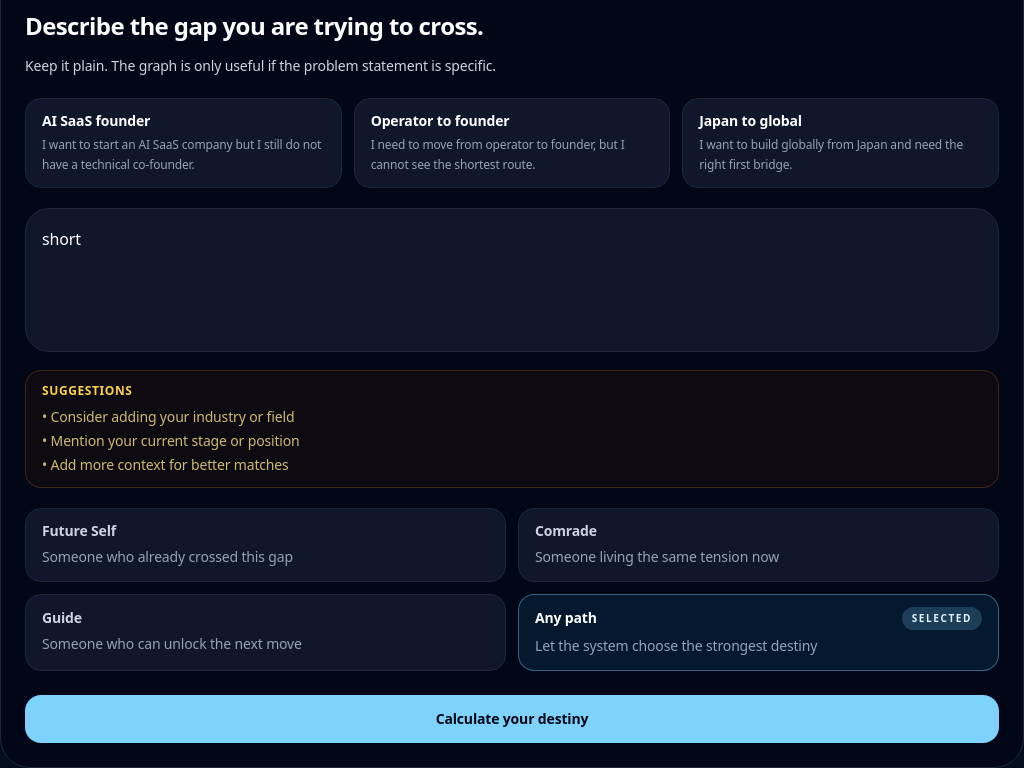
Scenario: SearchInput › Input validation › shows error when input is too short
(page scrolled)
What coordinates should you click on to do the following:
click the button "Calculate your destiny"
I would click on:
 (512, 718)
Its box is [25,694,999,742].
(page scrolled)
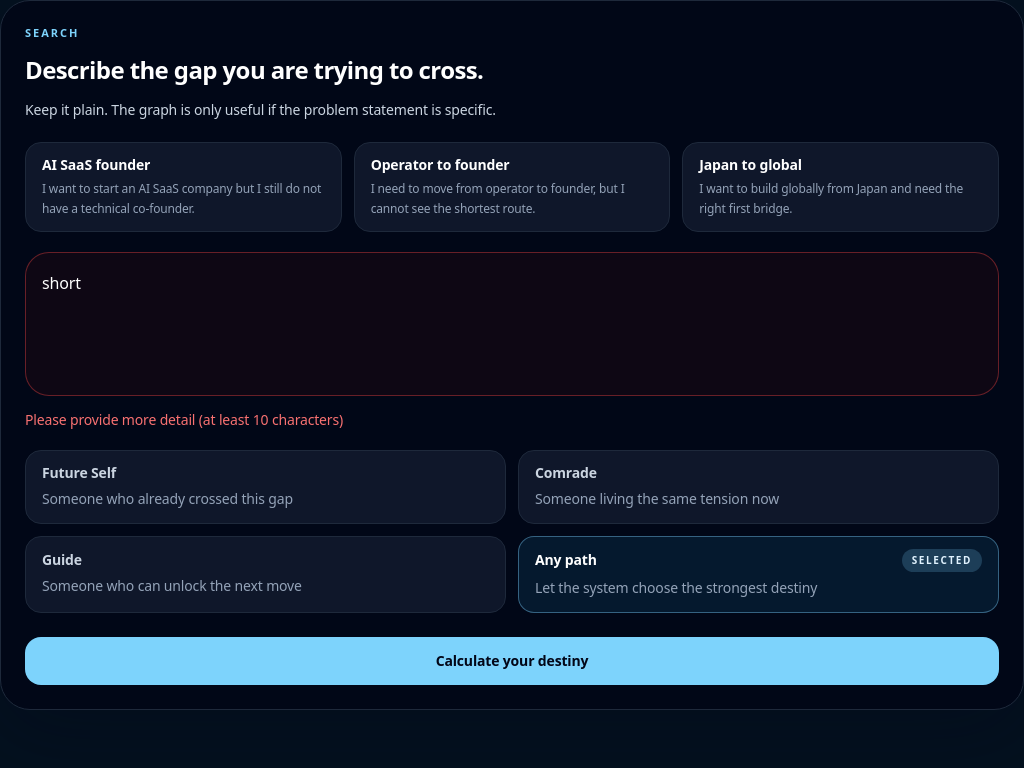
Check: the text "Please provide more detail (at least 10 characters)" is shown, box [25,410,343,428]
